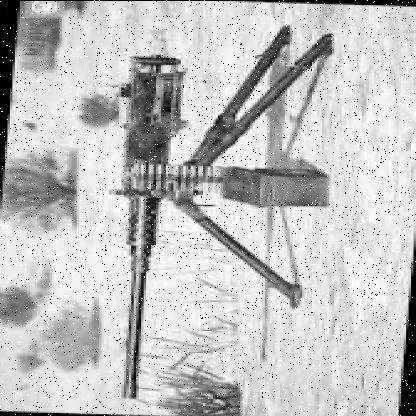rifle: (92, 57, 206, 381)
